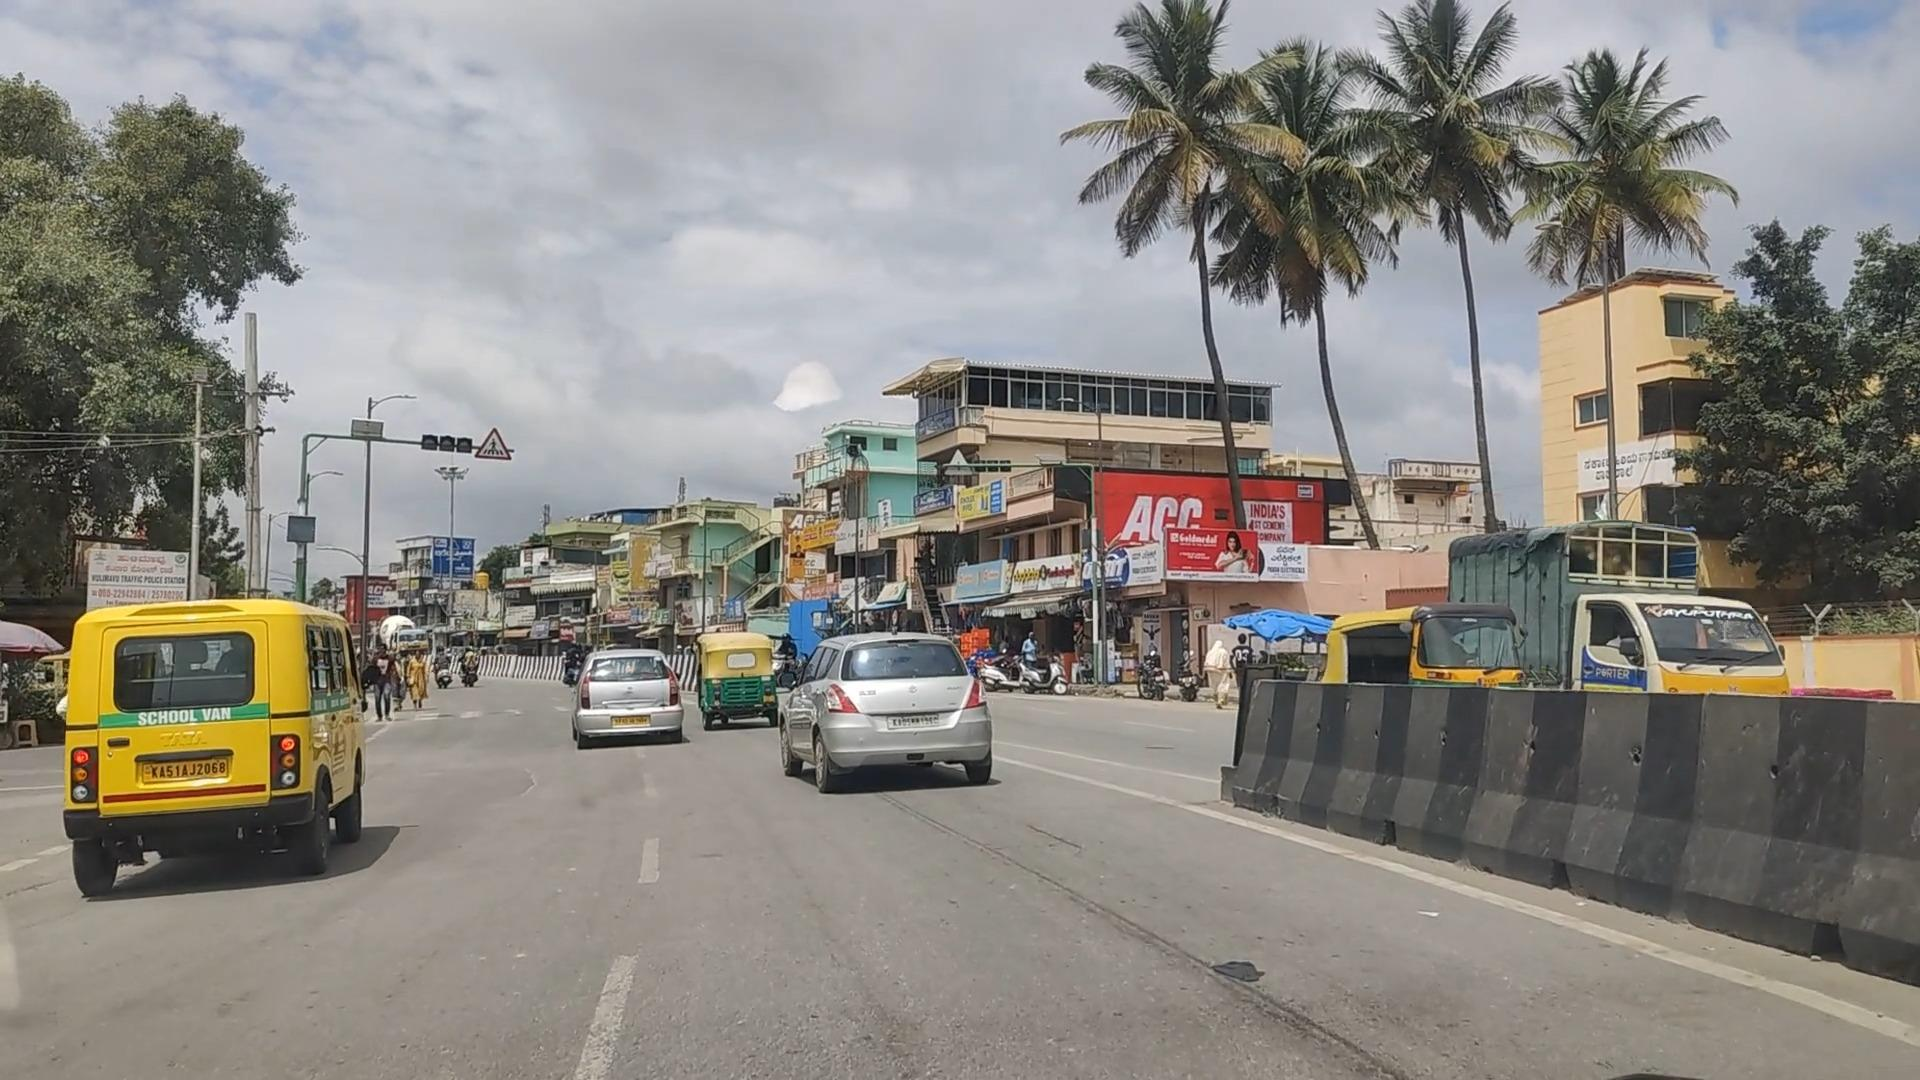LMV: (29, 529, 402, 943), (771, 591, 1022, 819), (562, 603, 709, 770), (679, 616, 808, 756)
